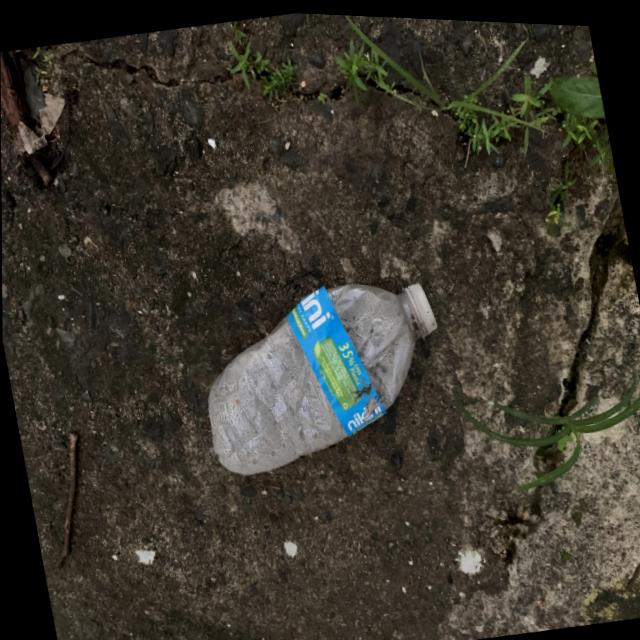anorganik: (159, 230, 480, 507)
